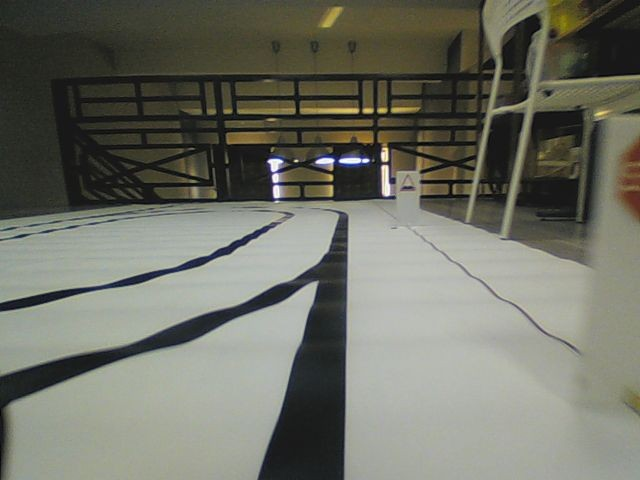Nerov: (398, 173, 416, 192)
